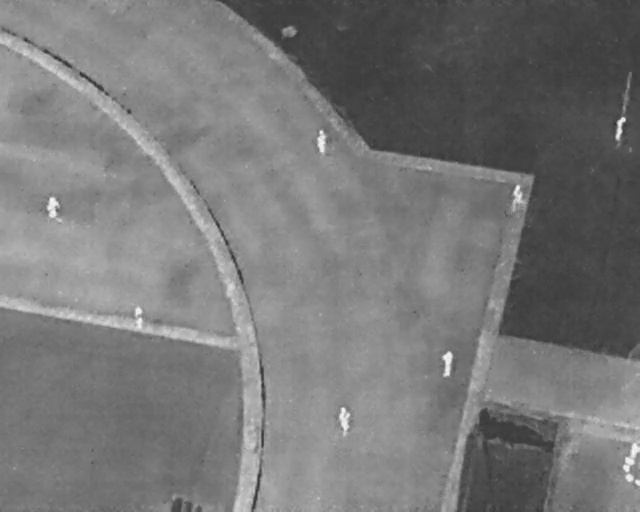DontCare: (620, 435, 639, 486)
Person: (335, 405, 354, 437), (611, 112, 628, 144), (510, 182, 527, 212), (312, 127, 330, 155), (44, 194, 62, 220), (440, 348, 454, 379), (133, 305, 145, 331)
